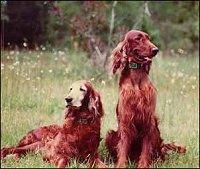Irish_setter: (102, 30, 190, 168), (0, 81, 106, 168)
